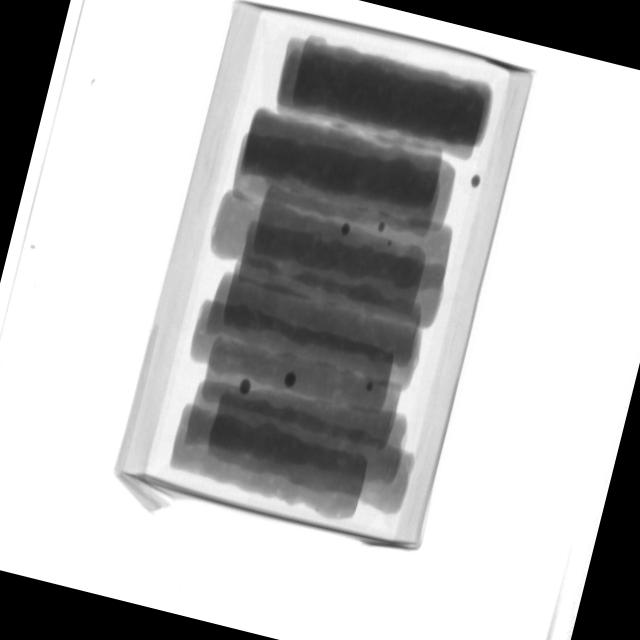ym: (284, 371, 300, 391), (239, 376, 253, 396), (341, 222, 353, 236), (470, 174, 482, 188), (366, 381, 376, 392), (378, 222, 387, 233), (386, 238, 394, 250)
